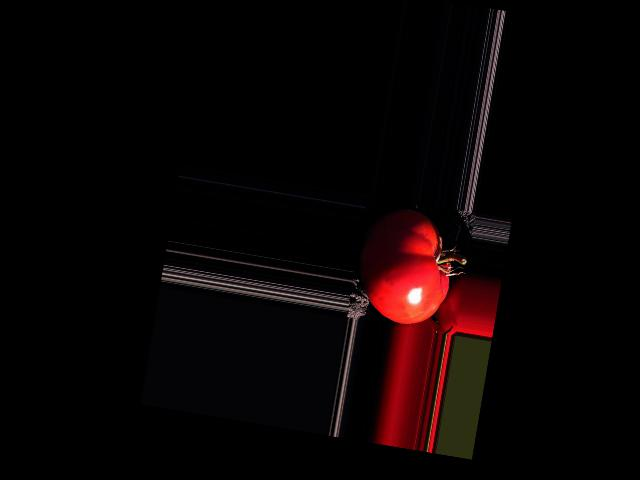tomato: (350, 202, 459, 329)
